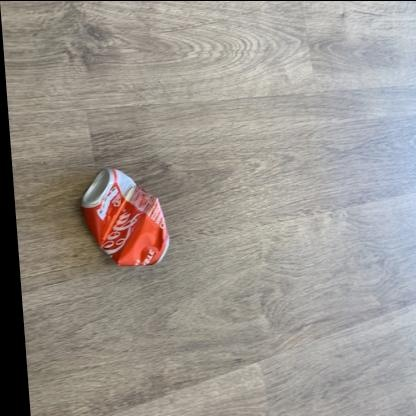trash: (81, 168, 168, 265)
